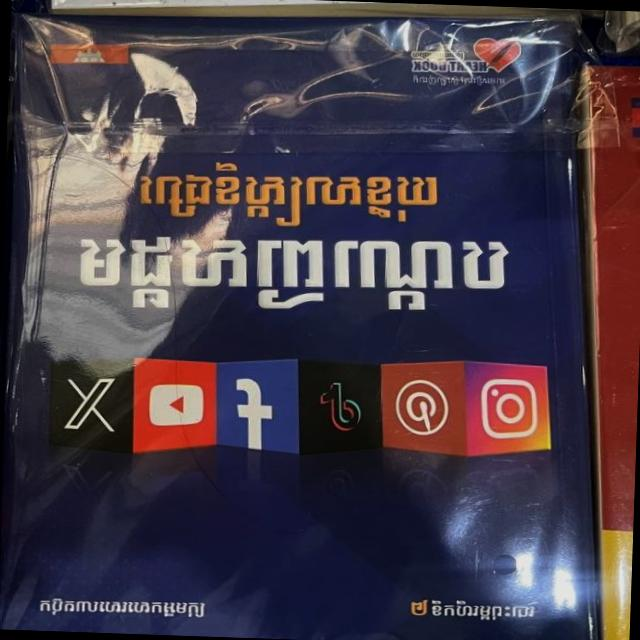Yolov11_80vkh: (76, 223, 516, 316), (135, 161, 442, 225), (33, 587, 209, 621), (404, 590, 539, 625)
